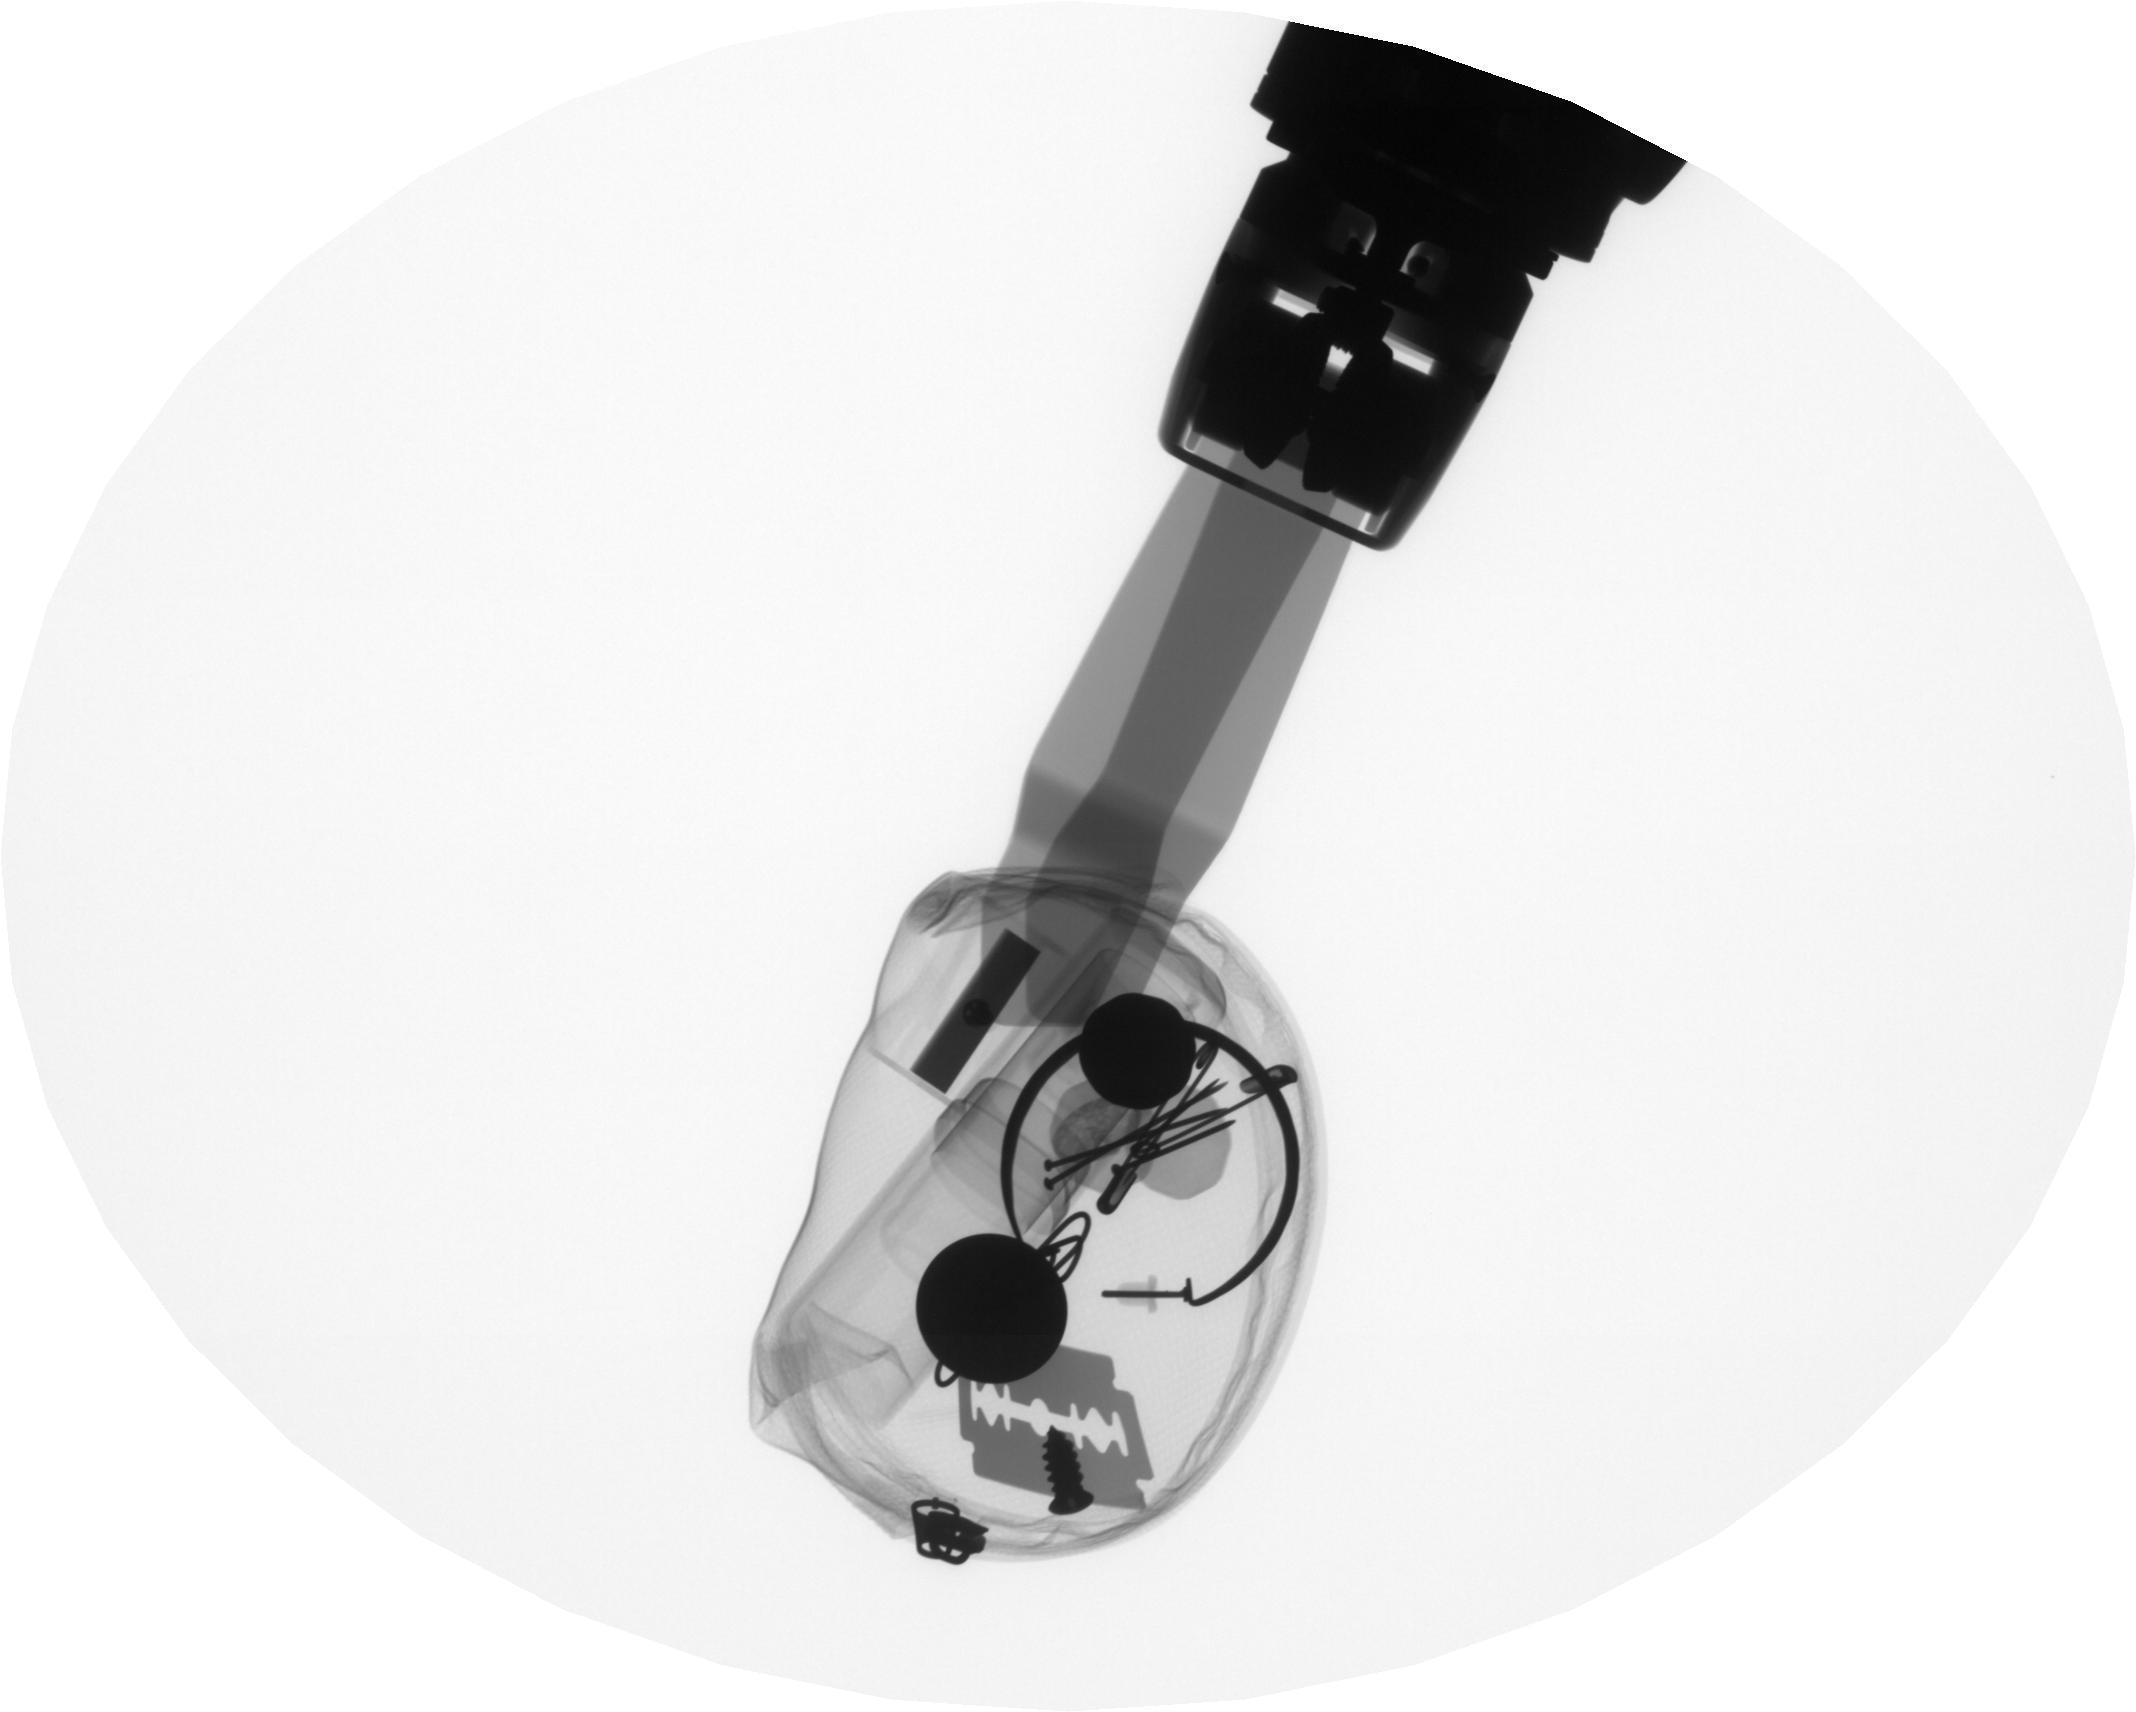RazorBlade: (950, 1328, 1168, 1522)
